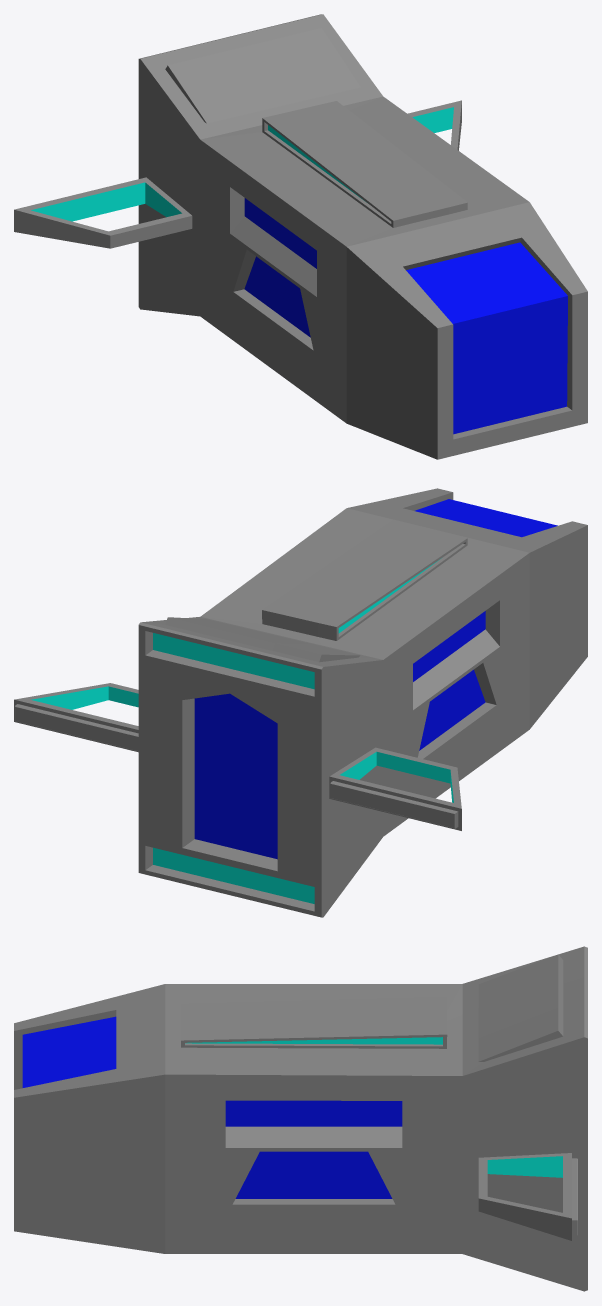
The model's file is EscapePod.fbx.
3 renders of one model, top to bottom at view 1: azimuth 30°, elevation 25°; view 2: azimuth 150°, elevation 25°; view 3: azimuth 270°, elevation 25°, orthographic.
Visible parts, largest first — view 1: EscapePod; view 2: EscapePod; view 3: EscapePod.
Boxes of the visible parts, bbox=[...] form: EscapePod: bbox=[14, 14, 587, 459]; EscapePod: bbox=[14, 488, 587, 917]; EscapePod: bbox=[14, 946, 587, 1291].
Size of the model in its own units: 636 by 340 by 695.
